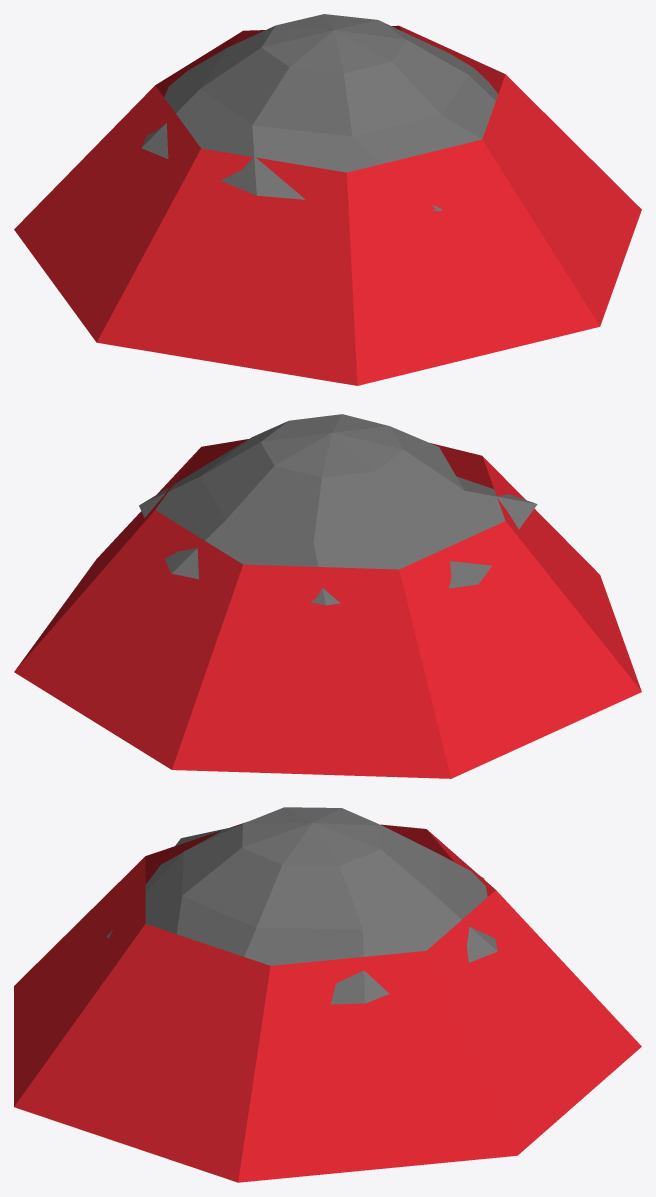
Rendered from Bowl.fbx.
The picture shows the model from 3 angles, top to bottom: view 1: azimuth 30°, elevation 25°; view 2: azimuth 150°, elevation 25°; view 3: azimuth 270°, elevation 25°; orthographic projection. The views are drawn at different scales.
Visible parts, largest first — view 1: Cylinder, Sphere; view 2: Cylinder, Sphere; view 3: Cylinder, Sphere.
Boxes of the visible parts, bbox=[...] form: Cylinder: bbox=[14, 25, 641, 385]; Sphere: bbox=[141, 14, 498, 211]; Cylinder: bbox=[14, 439, 641, 778]; Sphere: bbox=[139, 414, 537, 605]; Cylinder: bbox=[14, 822, 641, 1182]; Sphere: bbox=[106, 807, 497, 1004].
Bounding box in the file's own units: 349 × 134 × 341.
